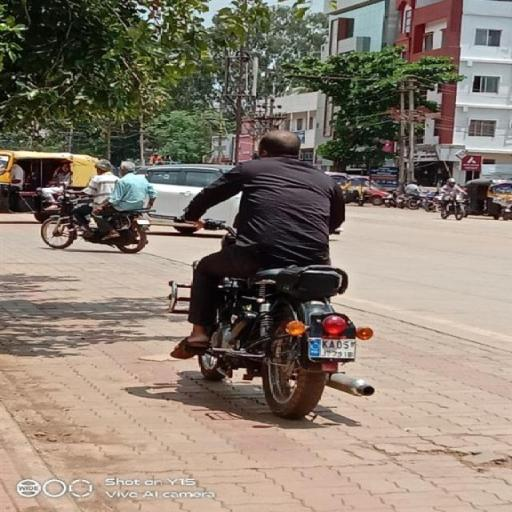using mobile: (250, 147, 275, 163)
